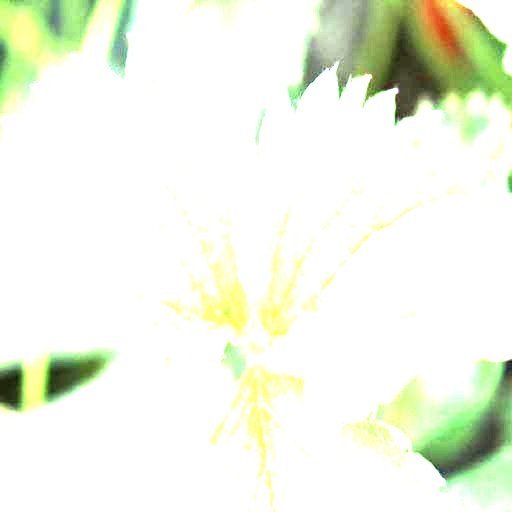Powdery Mildew Leaf: (223, 63, 511, 442), (0, 31, 253, 412)
